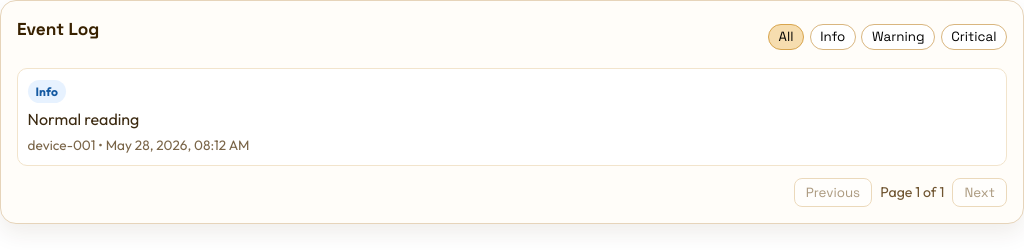
Test: EventLog › filters events when a filter button is clicked
The image size is (1024, 250).
Expected: the text "Normal reading" is shown, [28,109,139,129]
Click the button "critical" at (974, 37), box [941,24,1007,50]
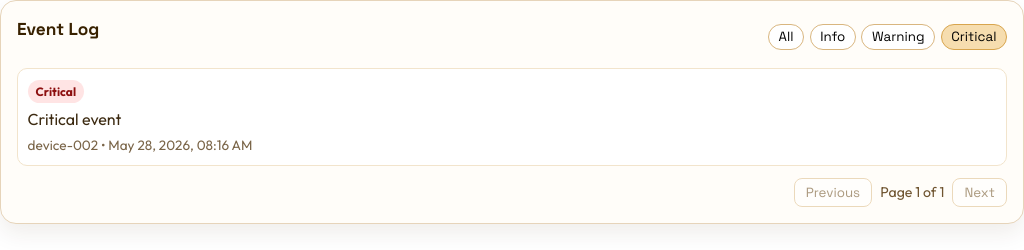
Result: the text "Normal reading" is gone
Result: the text "Critical event" is shown at [28,109,121,129]
